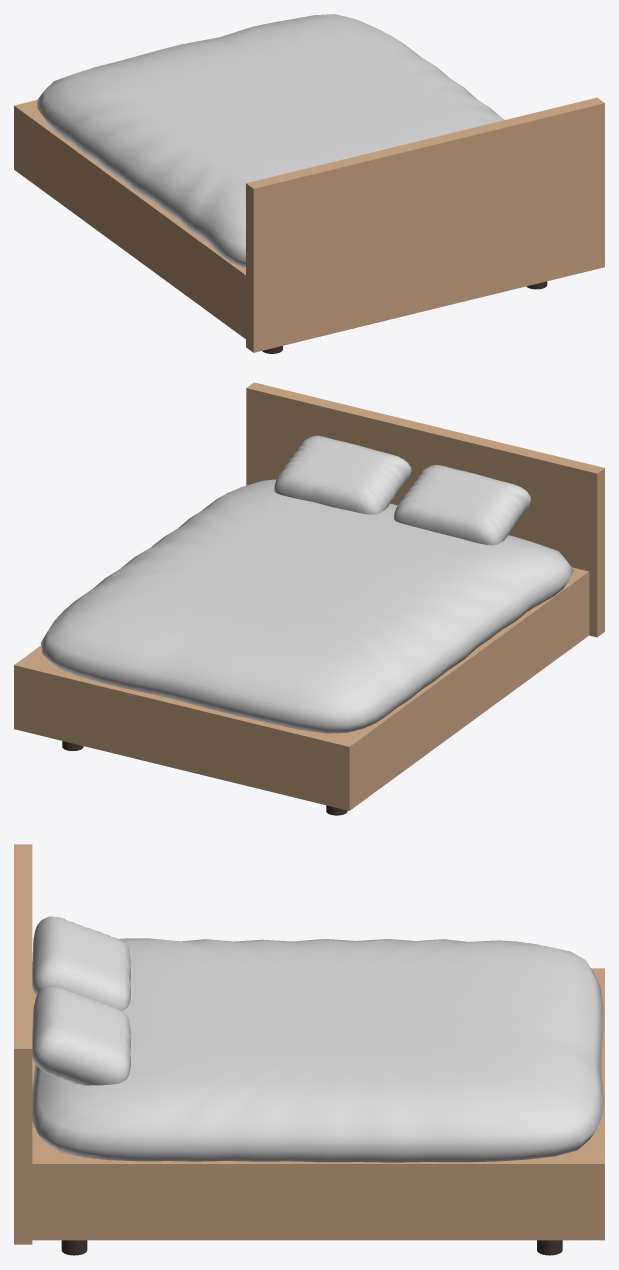
Rendered from Lit2_8.fbx.
The picture shows the model from 3 angles, top to bottom: view 1: azimuth 30°, elevation 25°; view 2: azimuth 150°, elevation 25°; view 3: azimuth 270°, elevation 25°; orthographic projection. The views are drawn at different scales.
Visible parts, largest first — view 1: pCube2137, pCylinder1514, pCube2136; view 2: pCylinder1514, pCube2136, pCube2137, pCylinder1518, pCylinder1513; view 3: pCylinder1514, pCube2136, pCylinder1513, pCube2137, pCylinder1518, pCylinder1515.
Part boxes in pixels (bbox=[...]): pCube2137: bbox=[246, 97, 604, 352]; pCylinder1514: bbox=[37, 14, 504, 267]; pCube2136: bbox=[14, 100, 245, 338]; pCylinder1514: bbox=[40, 479, 573, 733]; pCube2136: bbox=[14, 567, 589, 810]; pCube2137: bbox=[246, 382, 604, 637]; pCylinder1518: bbox=[394, 465, 530, 545]; pCylinder1513: bbox=[274, 435, 411, 514]; pCylinder1514: bbox=[32, 938, 603, 1162]; pCube2136: bbox=[32, 968, 604, 1240]; pCylinder1513: bbox=[32, 986, 130, 1085]; pCube2137: bbox=[14, 844, 32, 1244]; pCylinder1518: bbox=[32, 916, 130, 1010]; pCylinder1515: bbox=[61, 1240, 562, 1255].
Bounding box in the file's own units: 117 × 60.53 × 143.
